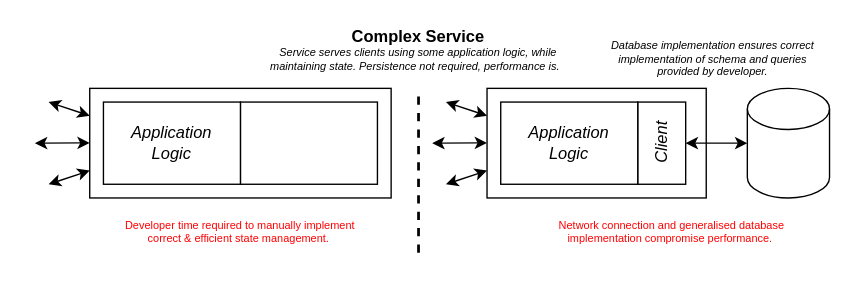
Image size: 854x290. Some labels were removed from this diagram. The shapes that lost their labels are listed below. From the top down, each one's centre as x and y in pixels, then its label:
pixel 308 142: Complex Non-Persistent State
pixel 788 142: State
